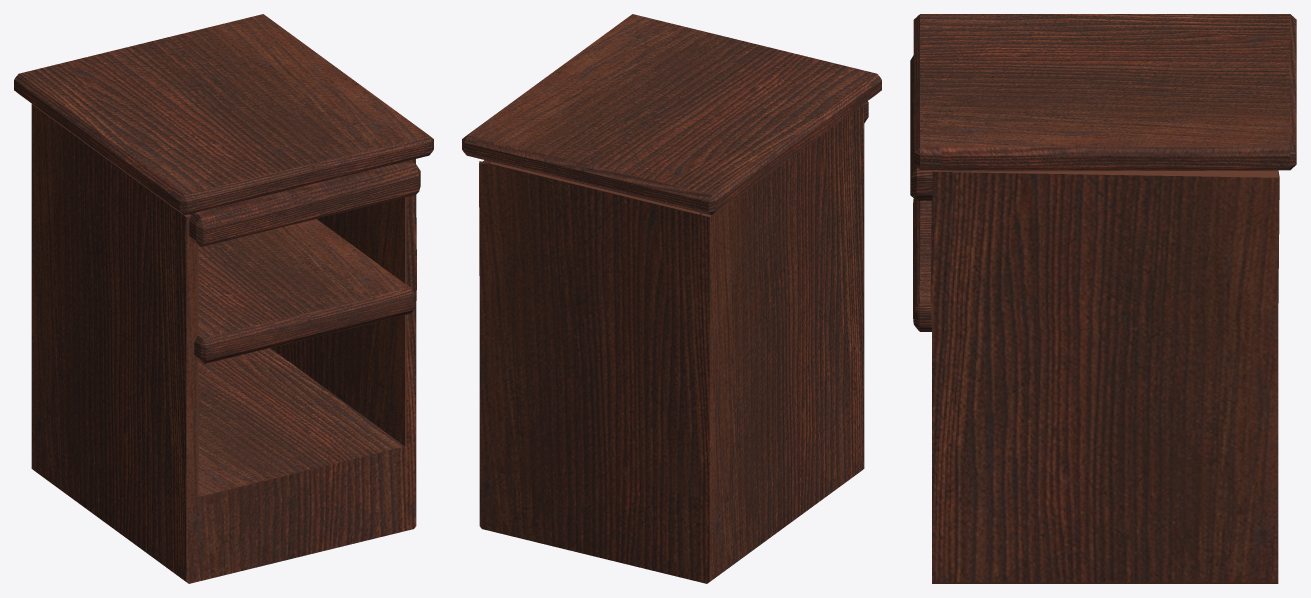
Rendered from yotukue.fbx.
3 views of the same model, side by side, from view 1: azimuth 30°, elevation 25°; view 2: azimuth 150°, elevation 25°; view 3: azimuth 270°, elevation 25° (orthographic). The views are drawn at different scales.
Visible parts, largest first — view 1: pCube6; view 2: pCube6; view 3: pCube6.
Boxes of the visible parts, x1,y1,x2,y2 form: pCube6: (14, 14, 433, 583); pCube6: (462, 14, 881, 583); pCube6: (910, 14, 1296, 583).
Size of the model in its own units: 33.17 by 49.27 by 39.05.
Materials: 1 (1 with a texture image).
